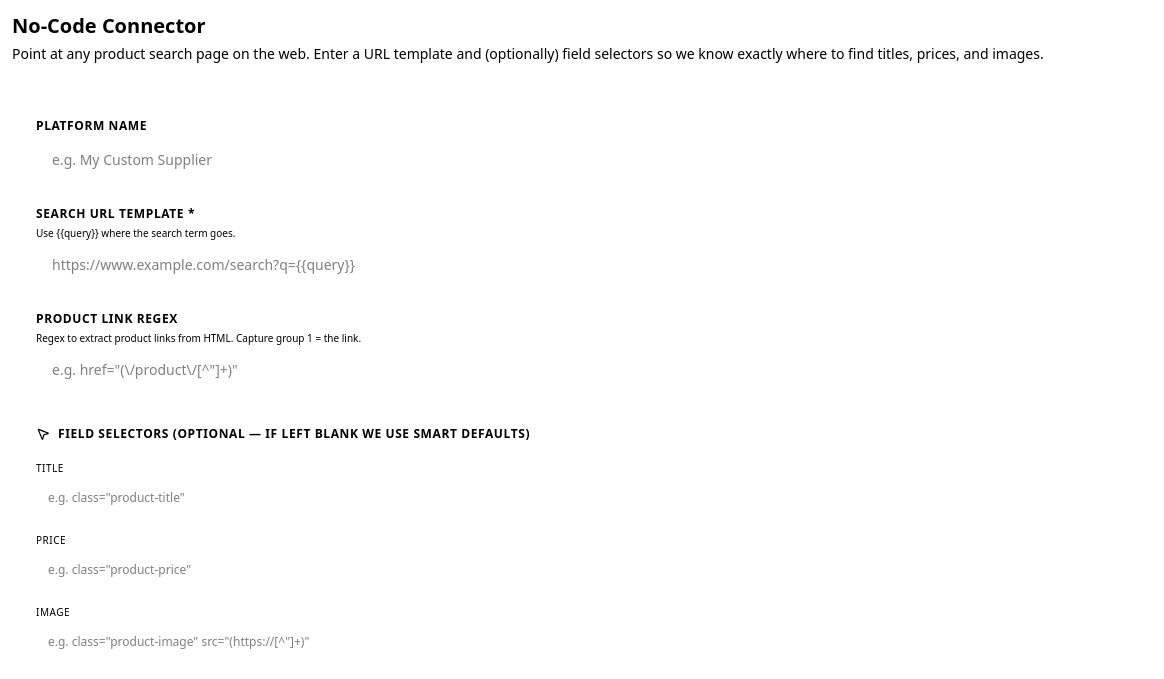
Test: NoCodeConnectorTab › URL validation
Type "https://example.com/search" into the field with placeholder "https://www.example.com/search?q={{query}}". click: (588, 265)
box: [36,245,1140,285]
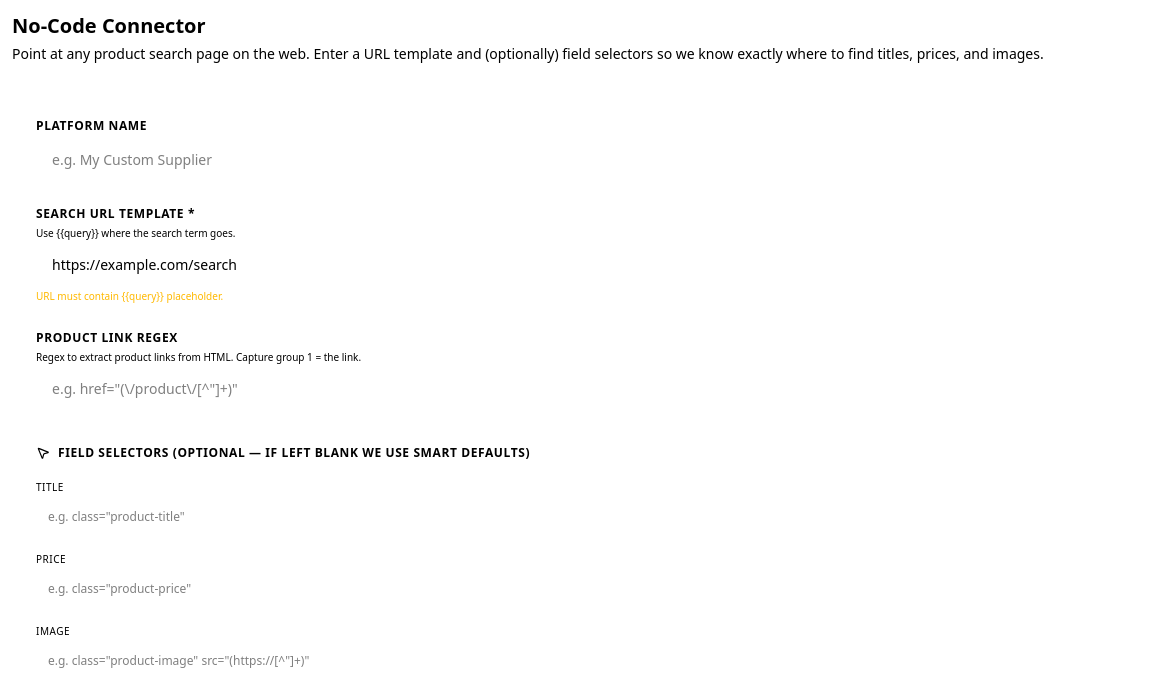
expect the text "URL must contain {{query}} placeholder." is shown: met, box [36,289,223,303]
